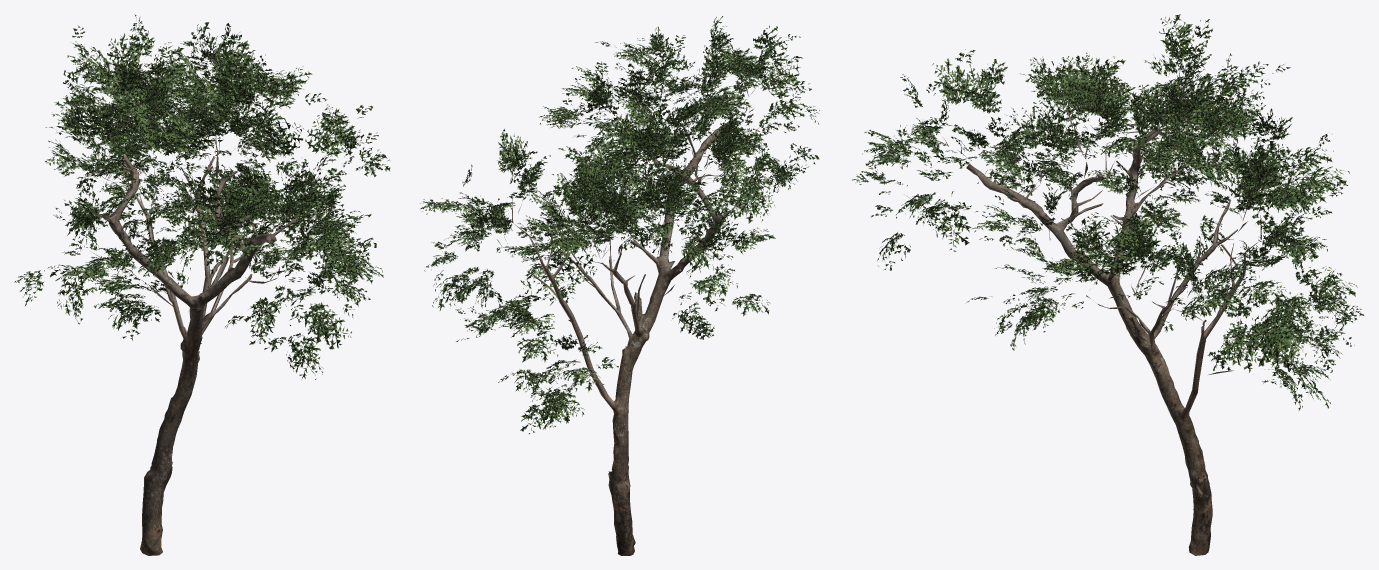
Rendered from tree-near.gltf.
3 renders of one model, left to right at view 1: azimuth 30°, elevation 25°; view 2: azimuth 150°, elevation 25°; view 3: azimuth 270°, elevation 25°, orthographic. The views are drawn at different scales.
Parts seen in each view (by area): view 1: tree_small_02_LOD0; view 2: tree_small_02_LOD0; view 3: tree_small_02_LOD0.
Boxes of the visible parts, x1,y1,x2,y2 form: tree_small_02_LOD0: (14,14,390,555); tree_small_02_LOD0: (420,16,819,555); tree_small_02_LOD0: (852,14,1364,555).
Bounding box in the file's own units: 2.91 × 4.56 × 4.25.
3 materials, 3 textured.
